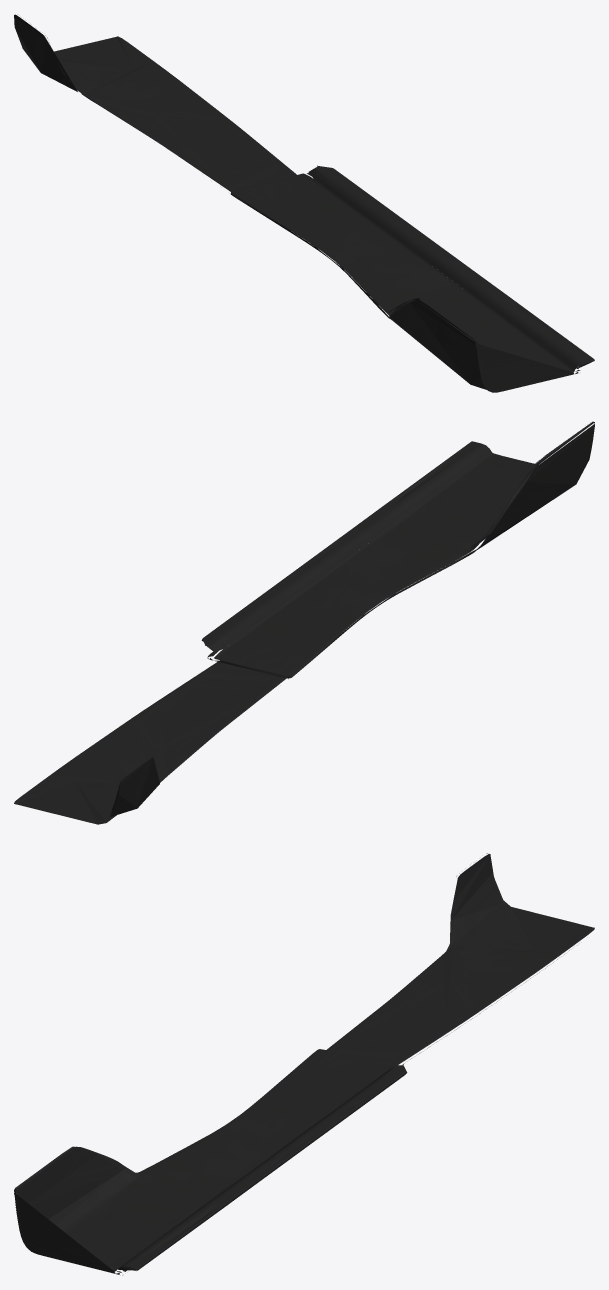
The model's file is bodyPart_side_skirt_right_b01.glb.
3 renders of one model, top to bottom at view 1: azimuth 30°, elevation 25°; view 2: azimuth 150°, elevation 25°; view 3: azimuth 330°, elevation 25°, orthographic. The views are drawn at different scales.
Parts seen in each view (by area): view 1: geometry_0; view 2: geometry_0; view 3: geometry_0.
Part boxes in pixels (x1,y1,x2,y2): geometry_0: (14,14,594,392); geometry_0: (14,421,594,824); geometry_0: (14,853,594,1275).
Bounding box in the file's own units: 0.0633 × 0.0322 × 0.42.
Materials: 1 (1 with a texture image).
